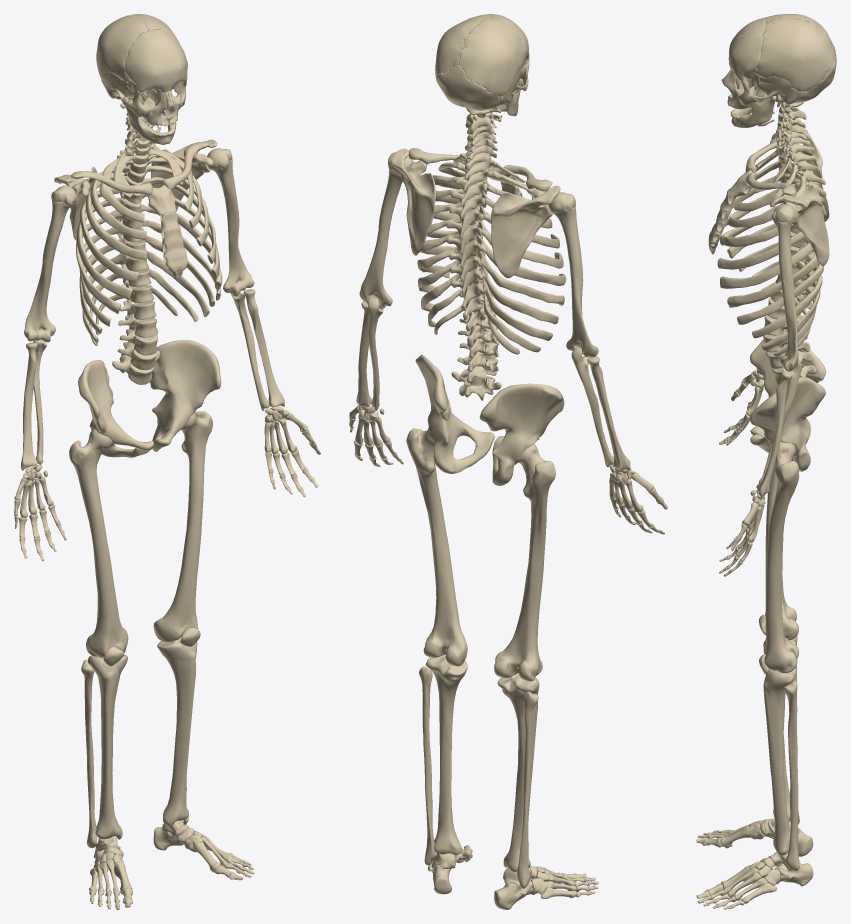
The model's file is skeletal-body.glb.
3 views of the same model, side by side, from view 1: azimuth 30°, elevation 25°; view 2: azimuth 150°, elevation 25°; view 3: azimuth 270°, elevation 25° (orthographic). The views are drawn at different scales.
Parts seen in each view (by area): view 1: hip-bone-left, right-femur, femur, tibia, frontal-bone, right-tibia, hip-bone-right, humerus-right, humerus-left, parietal-bone-right, right-fibula, radius-right (+16 smaller); view 2: right-femur, femur, hip-bone-right, parietal-bone-right, scapula-right, hip-bone-left, tibia, right-tibia, humerus-right, scapula-left, humerus-left, right-fibula (+13 smaller); view 3: femur, parietal-bone-left, tibia, hip-bone-left, humerus-left, scapula-left, fibula, frontal-bone, hip-bone-right, right-femur, radius-left, temporal-bone-left (+24 smaller).
Boxes of the visible parts, <box> form: hip-bone-left: <box>150,340,221,451</box>; right-femur: <box>69,428,128,657</box>; femur: <box>153,411,212,642</box>; tibia: <box>157,636,197,826</box>; frontal-bone: <box>125,28,187,93</box>; right-tibia: <box>88,654,127,839</box>; hip-bone-right: <box>78,360,153,457</box>; humerus-right: <box>24,185,76,342</box>; humerus-left: <box>207,148,254,296</box>; parietal-bone-right: <box>96,15,149,81</box>; right-fibula: <box>81,659,97,848</box>; radius-right: <box>21,342,37,470</box>; right-femur: <box>494,444,555,681</box>; femur: <box>406,428,467,666</box>; hip-bone-right: <box>479,383,564,485</box>; parietal-bone-right: <box>458,16,526,96</box>; scapula-right: <box>491,185,560,278</box>; hip-bone-left: <box>415,354,494,473</box>; tibia: <box>425,654,467,854</box>; right-tibia: <box>497,673,539,871</box>; humerus-right: <box>549,192,598,357</box>; scapula-left: <box>391,148,435,255</box>; humerus-left: <box>359,152,413,309</box>; right-fibula: <box>517,691,538,888</box>; femur: <box>764,442,799,673</box>; parietal-bone-left: <box>755,17,834,91</box>; tibia: <box>763,668,795,855</box>; hip-bone-left: <box>750,377,825,471</box>; humerus-left: <box>771,204,798,371</box>; scapula-left: <box>770,184,829,266</box>; fibula: <box>783,680,799,870</box>; frontal-bone: <box>728,17,767,80</box>; hip-bone-right: <box>750,330,825,444</box>; right-femur: <box>765,460,798,640</box>; radius-left: <box>756,371,792,497</box>; temporal-bone-left: <box>753,76,807,107</box>.
Bounding box in the file's own units: 0.6478 × 1.71 × 0.254.
